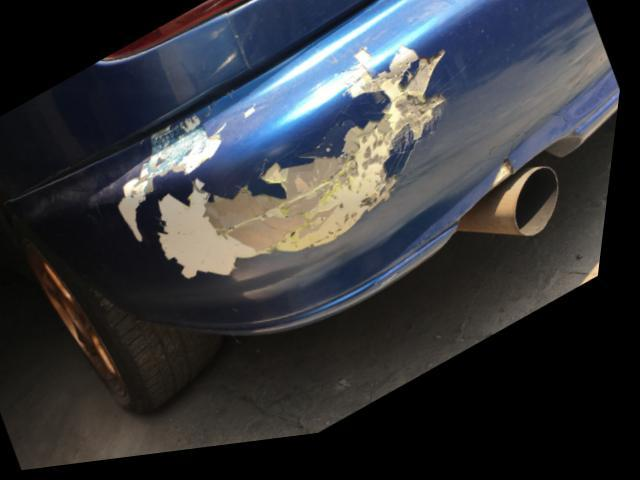scratch: (124, 51, 459, 287)
